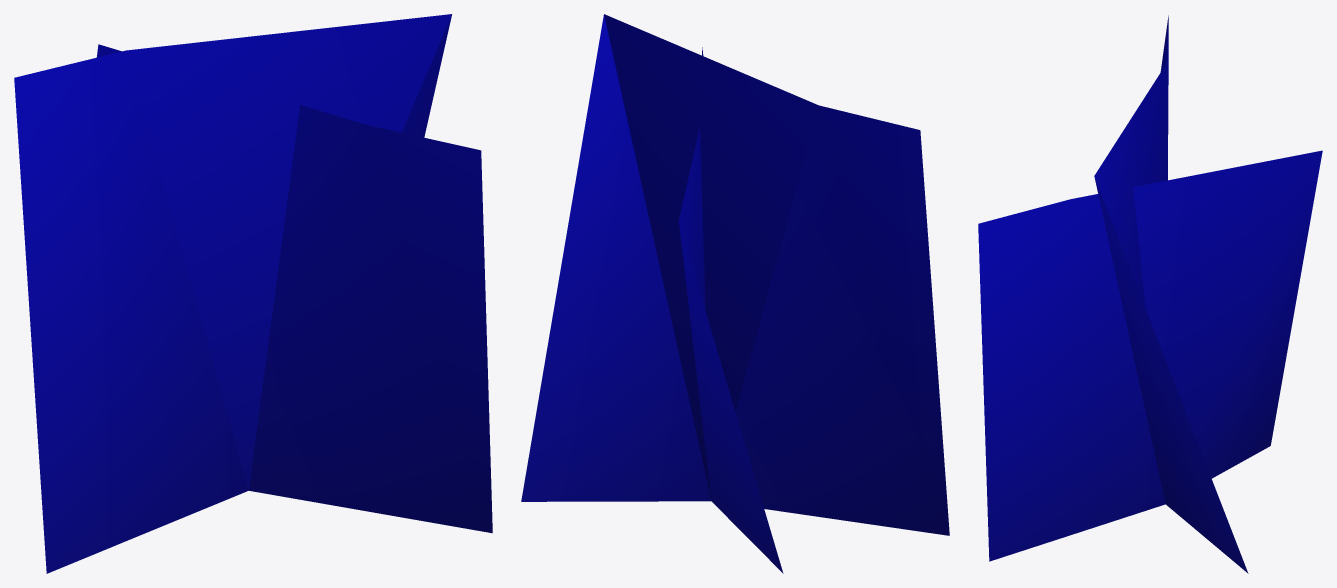
The model's file is Grass C doublesided Shifted Pivot.fbx.
The picture shows the model from 3 angles, left to right: view 1: azimuth 30°, elevation 25°; view 2: azimuth 150°, elevation 25°; view 3: azimuth 270°, elevation 25°; orthographic projection. The views are drawn at different scales.
Visible parts, largest first — view 1: Mesh; view 2: Mesh; view 3: Mesh.
Boxes of the visible parts, left/top/right/bottom form: Mesh: left=14, top=14, right=492, bottom=573; Mesh: left=521, top=14, right=949, bottom=573; Mesh: left=978, top=15, right=1322, bottom=573.
Bounding box in the file's own units: 0.7534 × 0.8632 × 0.6774.
